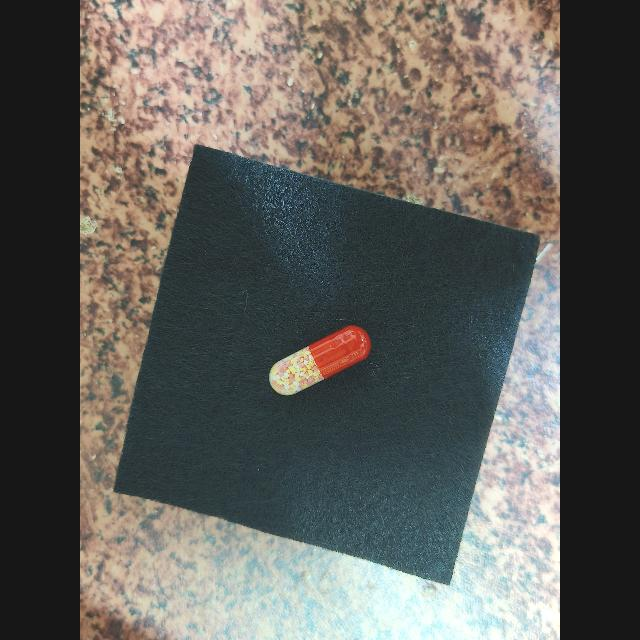Intact Capsule: (269, 325, 371, 395)
